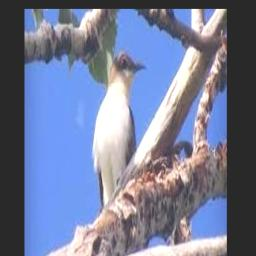Cuckoo: (92, 52, 148, 209)
